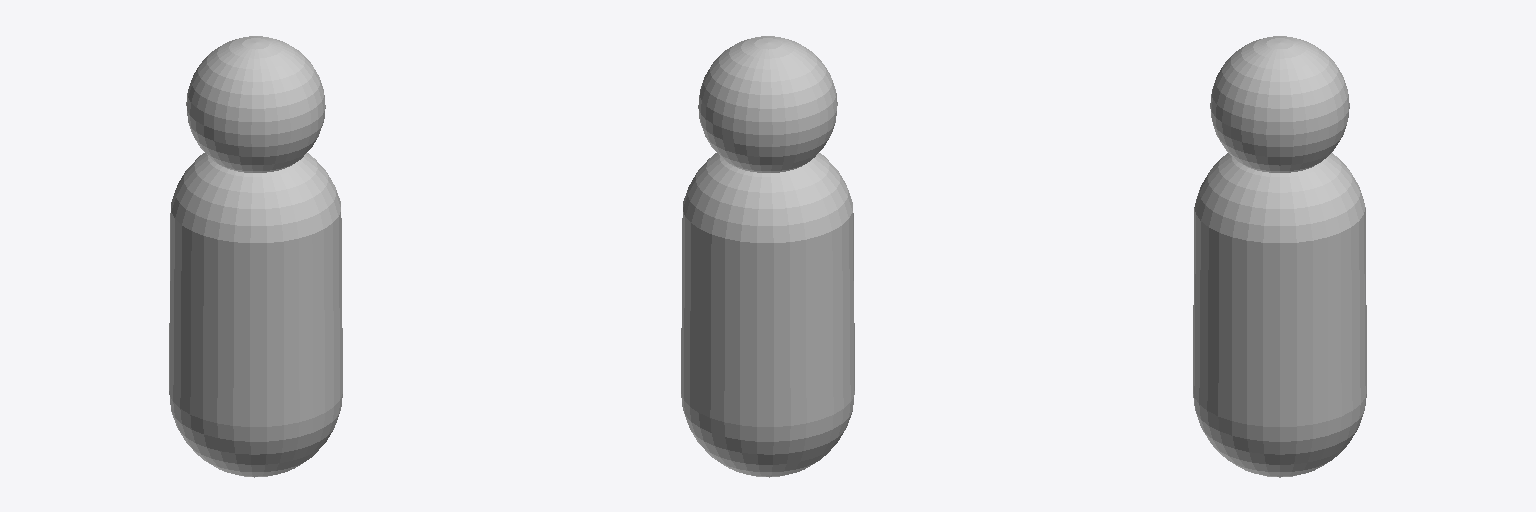
File: Enemy.obj
3 views of the same model, side by side, from view 1: azimuth 30°, elevation 25°; view 2: azimuth 150°, elevation 25°; view 3: azimuth 270°, elevation 25° (orthographic).
Parts seen in each view (by area): view 1: Sphere, Sphere.001; view 2: Sphere, Sphere.001; view 3: Sphere, Sphere.001.
Boxes of the visible parts, x1=… form: Sphere: x1=169, y1=153, x2=342, y2=477; Sphere.001: x1=186, y1=36, x2=325, y2=172; Sphere: x1=681, y1=153, x2=854, y2=477; Sphere.001: x1=698, y1=36, x2=837, y2=172; Sphere: x1=1193, y1=153, x2=1366, y2=477; Sphere.001: x1=1210, y1=36, x2=1349, y2=172.
Bounding box in the file's own units: 0.75 × 2.02 × 0.75.